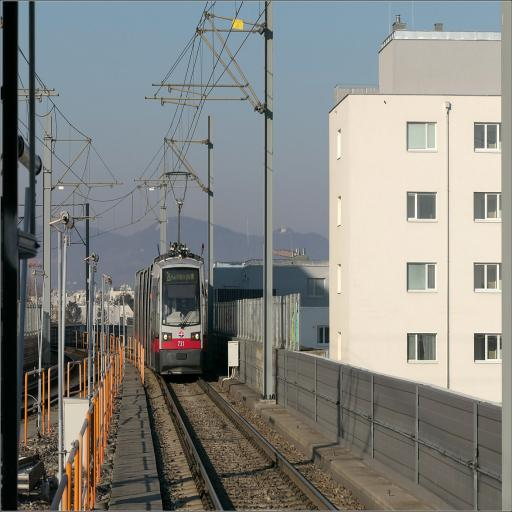ULF: (134, 248, 208, 378)
